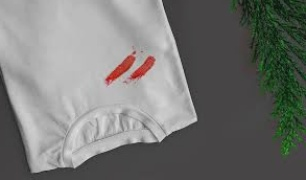lipstick: (132, 55, 158, 86), (109, 55, 139, 81), (103, 73, 123, 86)
